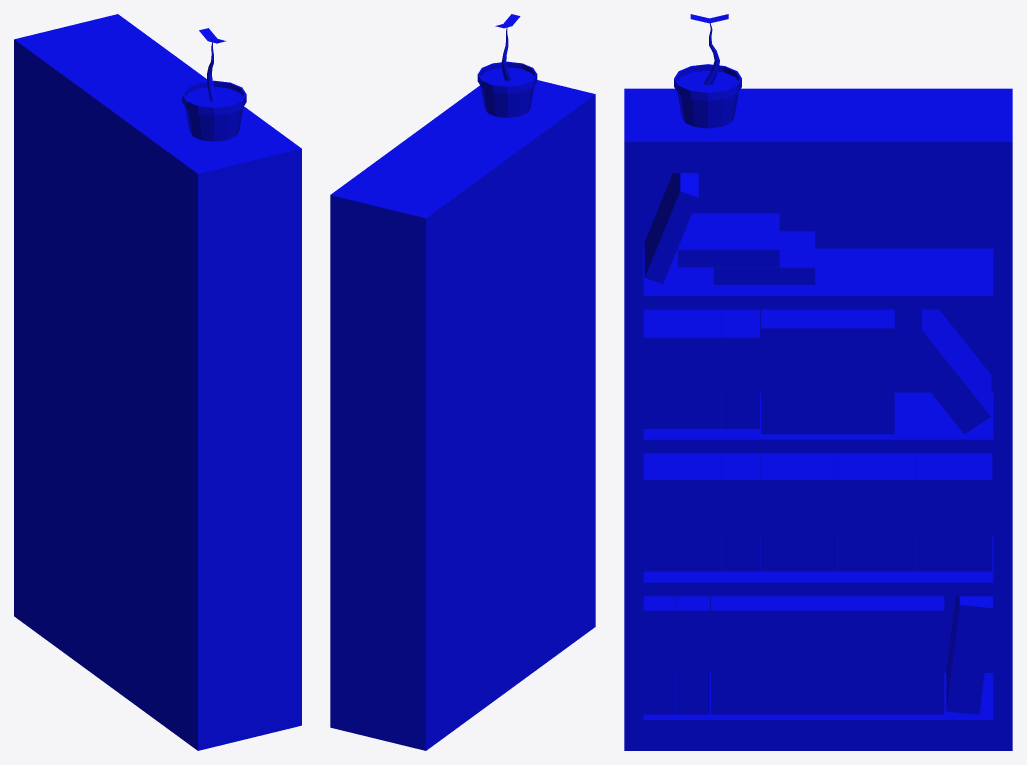
The model's file is tana_test_2.fbx.
3 renders of one model, left to right at view 1: azimuth 30°, elevation 25°; view 2: azimuth 150°, elevation 25°; view 3: azimuth 270°, elevation 25°, orthographic. The views are drawn at different scales.
Visible parts, largest first — view 1: tana_test; view 2: tana_test; view 3: tana_test.
Part boxes in pixels (bbox=[...]): tana_test: bbox=[14, 14, 301, 750]; tana_test: bbox=[330, 14, 595, 750]; tana_test: bbox=[624, 14, 1012, 750].
Size of the model in its own units: 0.1459 by 0.9023 by 0.4473.
1 material, 1 textured.
